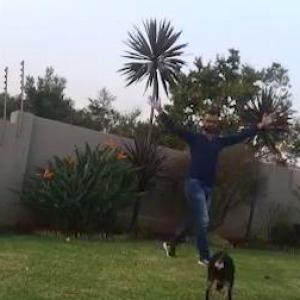takeoff: (155, 75, 265, 274)
